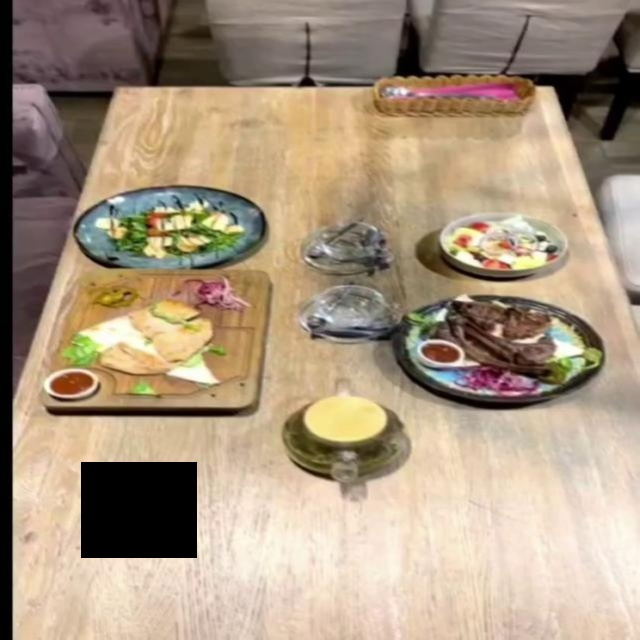meat: (42, 270, 274, 417), (390, 294, 605, 404)
salad: (72, 185, 265, 267), (436, 211, 570, 276)
tea: (280, 395, 410, 480)
